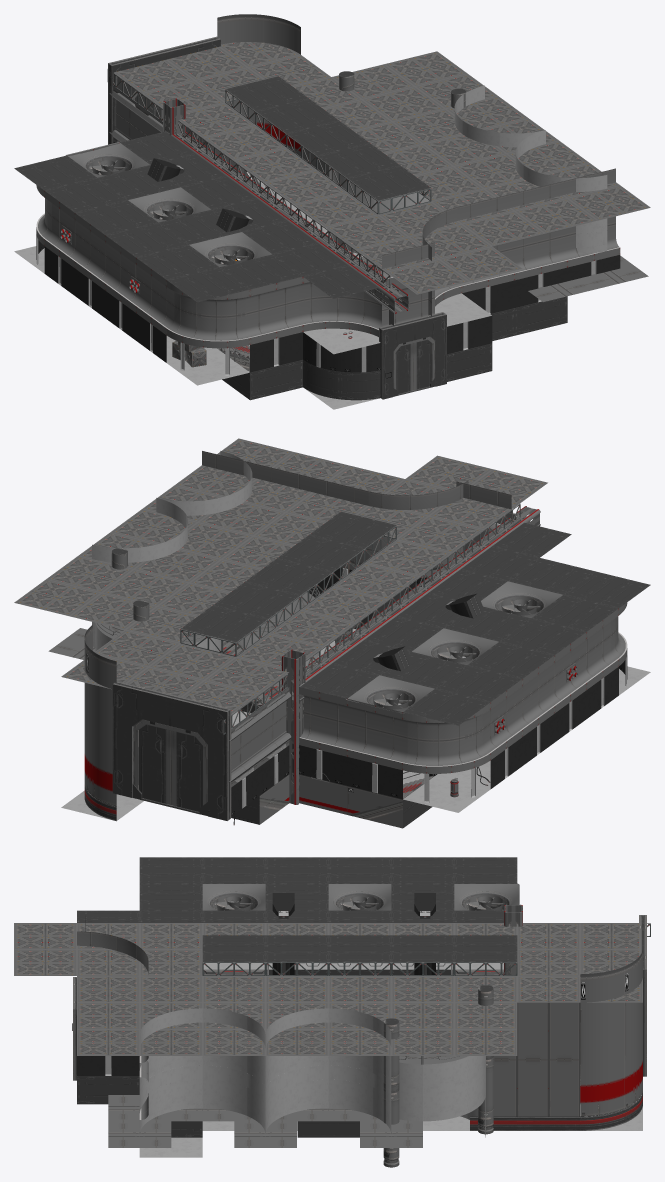
File: demo-layout-fans3.glb
The picture shows the model from 3 angles, top to bottom: view 1: azimuth 30°, elevation 25°; view 2: azimuth 150°, elevation 25°; view 3: azimuth 270°, elevation 25°; orthographic projection. The views are drawn at different scales.
Visible parts, largest first — view 1: Door_Frame_Square.001, ShortWall_Band2_Corner_Outer, TopPlastic_Corner_Round_Outer, TopPlastic_Corner_Round_Inner.002, ShortWall_DarkMetal2_Corner_Inner, Door_Frame_Square, TopAstra_Curve_Round_Outer, TopPlastic_Straight.012, TopPlastic_Straight.018, Platform_DarkPlates.004, Platform_DarkPlates.005, Platform_DarkPlates.007 (+105 smaller); view 2: Door_Frame_Square, ShortWall_Band2_Corner_Outer, TopPlastic_Corner_Round_Inner, Door_DarkMetal.001, Door_DarkMetal, TopPlastic_Straight.008, Platform_DarkPlates.007, Platform_X.003, Platform_DarkPlates.005, Platform_X.009, Platform_DarkPlates.023, Platform_X.031 (+106 smaller); view 3: ShortWall_Band2_Corner_Outer, ShortWall_MetalPlates_Straight.001, ShortWall_MetalPlates_Straight, ShortWall_WhitePlate2_Corner_Outer.025, ShortWall_WhitePlate2_Corner_Outer.018, ShortWall_WhitePlate2_Corner_Outer.019, Platform_X.030, ShortWall_WhitePlate2_Corner_Outer.024, Platform_X.024, ShortWall_WhitePlate2_Corner_Outer.008, Platform_DarkPlates.002, Platform_DarkPlates.003 (+95 smaller).
Boxes of the visible parts, x1,y1,x2,y2 form: Door_Frame_Square.001: (379,312,446,399); ShortWall_Band2_Corner_Outer: (217,14,300,156); TopPlastic_Corner_Round_Outer: (298,297,393,336); TopPlastic_Corner_Round_Inner.002: (166,306,249,348); ShortWall_DarkMetal2_Corner_Inner: (303,360,380,400); Door_Frame_Square: (108,36,220,146); TopAstra_Curve_Round_Outer: (303,332,380,372); TopPlastic_Straight.012: (245,301,302,344); TopPlastic_Straight.018: (510,237,567,280); Platform_DarkPlates.004: (75,200,157,235); Platform_DarkPlates.005: (106,222,188,257); Platform_DarkPlates.007: (167,267,249,302); Door_Frame_Square: (112,681,231,820); ShortWall_Band2_Corner_Outer: (84,624,116,806); TopPlastic_Corner_Round_Inner: (403,729,490,773); Door_DarkMetal.001: (139,724,171,804); Door_DarkMetal: (171,730,202,811); TopPlastic_Straight.008: (347,724,407,770); Platform_DarkPlates.007: (563,571,650,608); Platform_X.003: (149,643,235,680); Platform_DarkPlates.005: (499,618,586,655); Platform_X.009: (397,516,483,552); Platform_DarkPlates.023: (245,558,331,595); Platform_X.031: (14,579,100,616); ShortWall_Band2_Corner_Outer: (580,950,642,1116); ShortWall_MetalPlates_Straight.001: (517,1002,548,1116); ShortWall_MetalPlates_Straight: (548,1002,579,1116); ShortWall_WhitePlate2_Corner_Outer.025: (202,1079,265,1133); ShortWall_WhitePlate2_Corner_Outer.018: (265,1079,328,1133); ShortWall_WhitePlate2_Corner_Outer.019: (328,1079,391,1132); Platform_X.030: (77,1002,139,1029); ShortWall_WhitePlate2_Corner_Outer.024: (139,1079,202,1134); Platform_X.024: (454,1002,517,1029); ShortWall_WhitePlate2_Corner_Outer.008: (423,1056,485,1092); Platform_DarkPlates.002: (454,857,517,883); Platform_DarkPlates.003: (391,857,454,883).
Size of the model in its own units: 33 by 11.82 by 40.5.
Materials: 22 (18 with a texture image).
